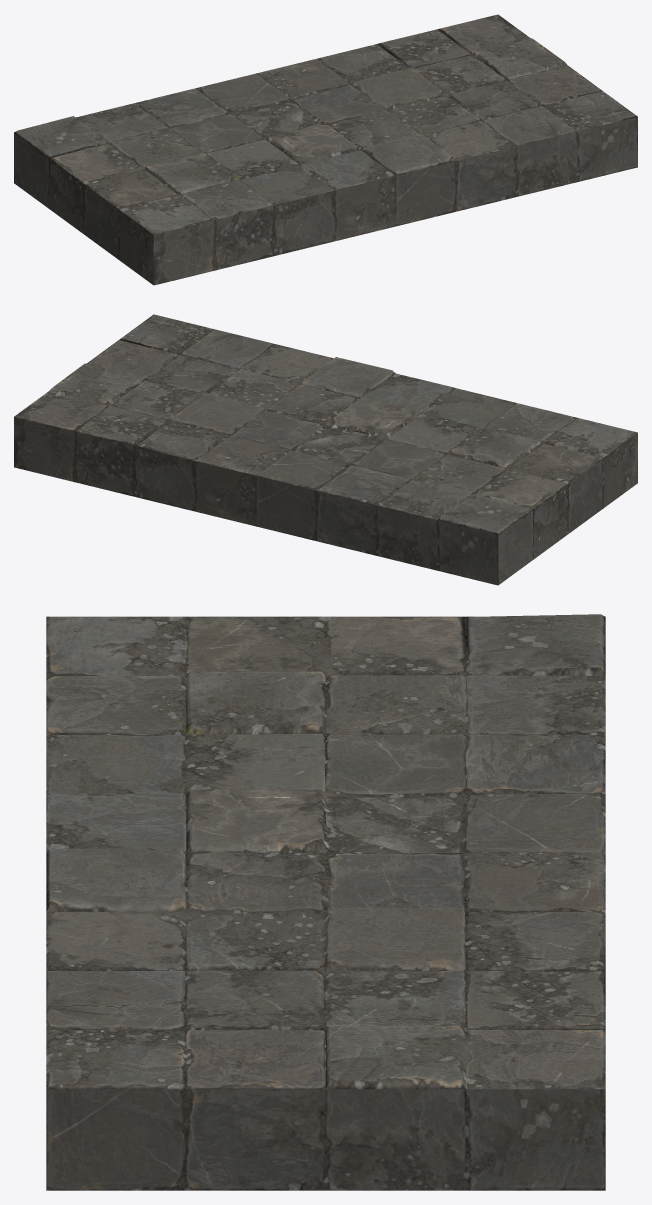
Rendered from SM_StoneFloorInteriorB.fbx.
3 renders of one model, top to bottom at view 1: azimuth 30°, elevation 25°; view 2: azimuth 150°, elevation 25°; view 3: azimuth 270°, elevation 25°, orthographic. The views are drawn at different scales.
Visible parts, largest first — view 1: SM_StoneFloorInteriorB_LOD0; view 2: SM_StoneFloorInteriorB_LOD0; view 3: SM_StoneFloorInteriorB_LOD0.
Part boxes in pixels (box(x1,y1,x2,y2)): SM_StoneFloorInteriorB_LOD0: box(14, 14, 637, 285); SM_StoneFloorInteriorB_LOD0: box(14, 314, 637, 585); SM_StoneFloorInteriorB_LOD0: box(46, 614, 605, 1190).
Size of the model in its own units: 200 by 100 by 21.4.
Materials: 1 (1 with a texture image).
